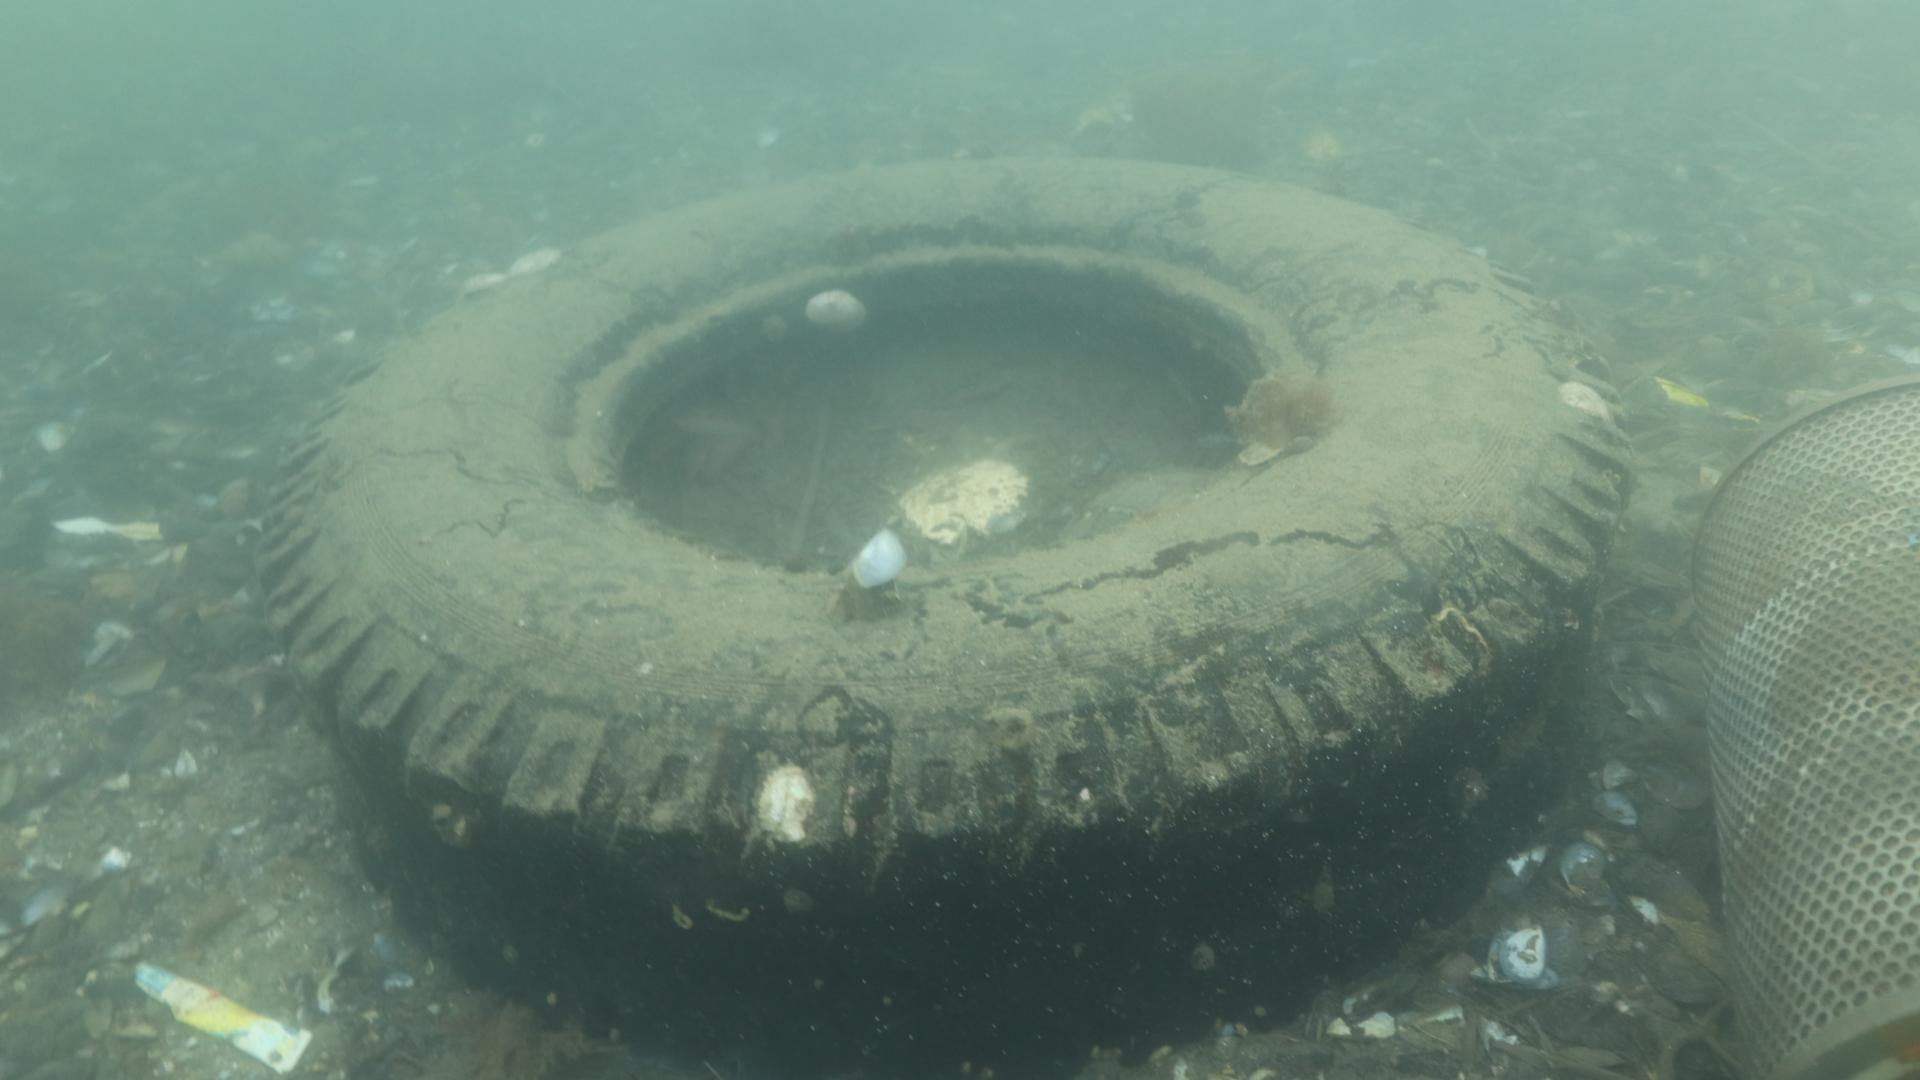tire: (253, 154, 1638, 1063)
